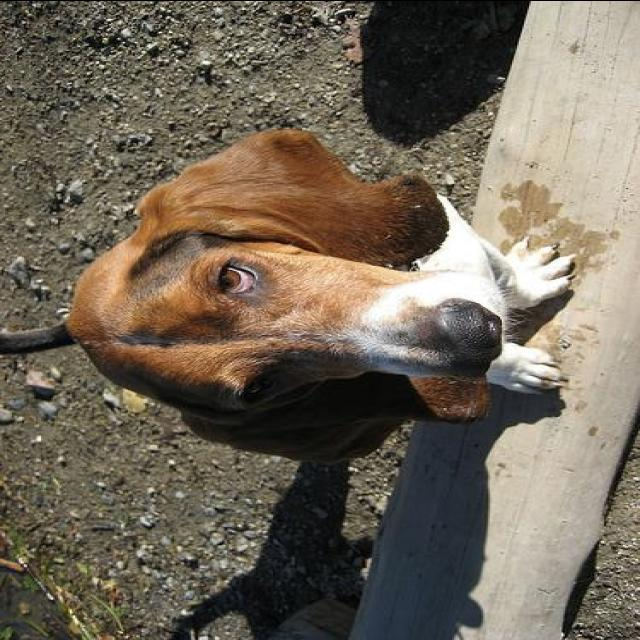basset: (67, 126, 582, 462)
